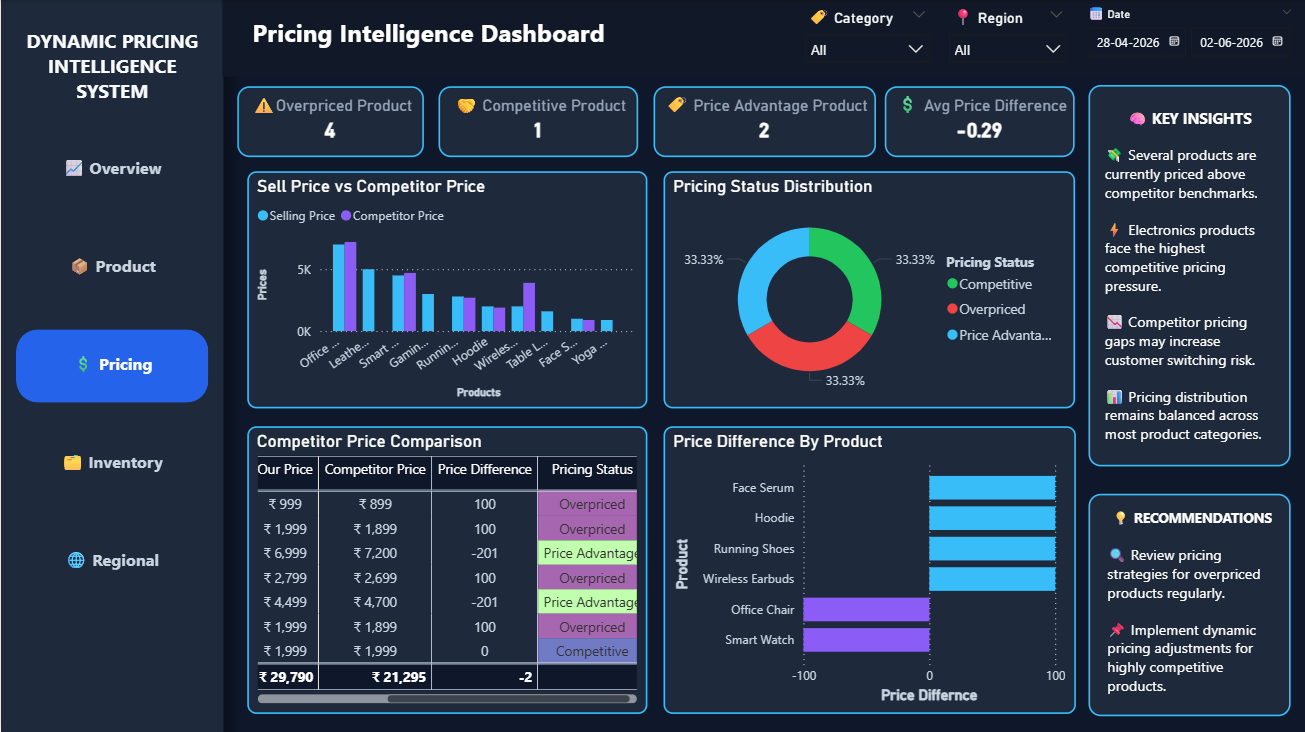

Layout of this report page (visuals, bound fields, positions):
{"tool":"powerbi","page":{"name":"💲 Pricing","canvas":[1280,720],"ordinal":2},"visuals":[{"type":"card","title":"⚠️Overpriced Product","fields":{"Values":["sales.Overpriced Products"]},"box":[231.9,84.7,182.8,69.9],"z":0},{"type":"card","title":"🤝 Competitive Product","fields":{"Values":["compPrice.Competitive Products"]},"box":[429.5,84.7,196.3,69.9],"z":1000},{"type":"card","title":"🏷️ Price Advantage Product","fields":{"Values":["compPrice.Price Advantage Products"]},"box":[640.5,84.7,218.4,69.9],"z":2000},{"type":"card","title":"💲 Avg Price Difference","fields":{"Values":["compPrice.Avg Price Difference"]},"box":[867.5,84.7,186.5,69.9],"z":3000},{"type":"clusteredColumnChart","title":"Sell Price vs Competitor Price","fields":{"Category":["product.prodName"],"Y":["Sum(product.sellPrice)","Sum(compPrice.compPricing)"]},"box":[241.7,168.1,392.6,233.1],"z":4000},{"type":"donutChart","title":"Pricing Status Distribution","fields":{"Category":["compPrice.Pricing Status"],"Y":["sales.Revenue"]},"box":[650.3,168.1,403.7,233.1],"z":5000},{"type":"clusteredBarChart","title":"Price Difference By Product","fields":{"Category":["product.prodName"],"Y":["Sum(compPrice.Price Difference)"]},"box":[650.3,418.4,404.9,282.2],"z":6000},{"type":"tableEx","title":"Competitor Price Comparison","fields":{"Values":["product.prodName","competitor.compName","Sum(product.sellPrice)","Sum(compPrice.compPricing)","Sum(compPrice.Price Difference)","compPrice.Pricing Status"]},"box":[241.7,418.4,392.6,282.2],"z":7000},{"type":"textbox","box":[0,0,218.4,720.2],"z":8000},{"type":"textbox","box":[14.9,22.4,189.1,88.3],"z":9000},{"type":"pageNavigator","box":[14.9,131.9,189.1,456.5],"z":10000},{"type":"textbox","box":[217.2,0,1062.6,75],"z":11000},{"type":"textbox","box":[241.7,11,384.1,50.3],"z":12000},{"type":"slicer","fields":{"Values":["category.categoryName"]},"box":[779.1,0,141.1,72.4],"z":13000},{"type":"slicer","fields":{"Values":["sales.region"]},"box":[920.3,0,135,72.4],"z":14000},{"type":"slicer","fields":{"Values":["dates.Date"]},"box":[1054,0,225.8,72.4],"z":15000},{"type":"textbox","box":[1067.5,484.7,198.8,218.4],"z":16000},{"type":"textbox","box":[1081,494.5,175.5,35.6],"z":17000},{"type":"textbox","box":[1081,530.1,181.6,157.1],"z":18000},{"type":"textbox","box":[1067.5,83.4,198.8,374.2],"z":19000},{"type":"textbox","box":[1100.6,100.6,137.4,30.7],"z":20000},{"type":"textbox","box":[1078.5,137.4,181.6,312.9],"z":21000}]}

Visuals, with their boxes on the page's 1280x720 design canvas (x1, y1, x2, y2). These are canvas units, not pixel positions in the 1305x732 screenshot, which may show the page scaled, cropped or inside an application window:
"⚠️Overpriced Product" card: x1=232, y1=85, x2=415, y2=155
"🤝 Competitive Product" card: x1=430, y1=85, x2=626, y2=155
"🏷️ Price Advantage Product" card: x1=640, y1=85, x2=859, y2=155
"💲 Avg Price Difference" card: x1=868, y1=85, x2=1054, y2=155
"Sell Price vs Competitor Price" clusteredColumnChart: x1=242, y1=168, x2=634, y2=401
"Pricing Status Distribution" donutChart: x1=650, y1=168, x2=1054, y2=401
"Price Difference By Product" clusteredBarChart: x1=650, y1=418, x2=1055, y2=701
"Competitor Price Comparison" tableEx: x1=242, y1=418, x2=634, y2=701
textbox: x1=0, y1=0, x2=218, y2=720
textbox: x1=15, y1=22, x2=204, y2=111
pageNavigator: x1=15, y1=132, x2=204, y2=588
textbox: x1=217, y1=0, x2=1280, y2=75
textbox: x1=242, y1=11, x2=626, y2=61
slicer - category.categoryName: x1=779, y1=0, x2=920, y2=72
slicer - sales.region: x1=920, y1=0, x2=1055, y2=72
slicer - dates.Date: x1=1054, y1=0, x2=1280, y2=72
textbox: x1=1068, y1=485, x2=1266, y2=703
textbox: x1=1081, y1=494, x2=1256, y2=530
textbox: x1=1081, y1=530, x2=1263, y2=687
textbox: x1=1068, y1=83, x2=1266, y2=458
textbox: x1=1101, y1=101, x2=1238, y2=131
textbox: x1=1078, y1=137, x2=1260, y2=450
